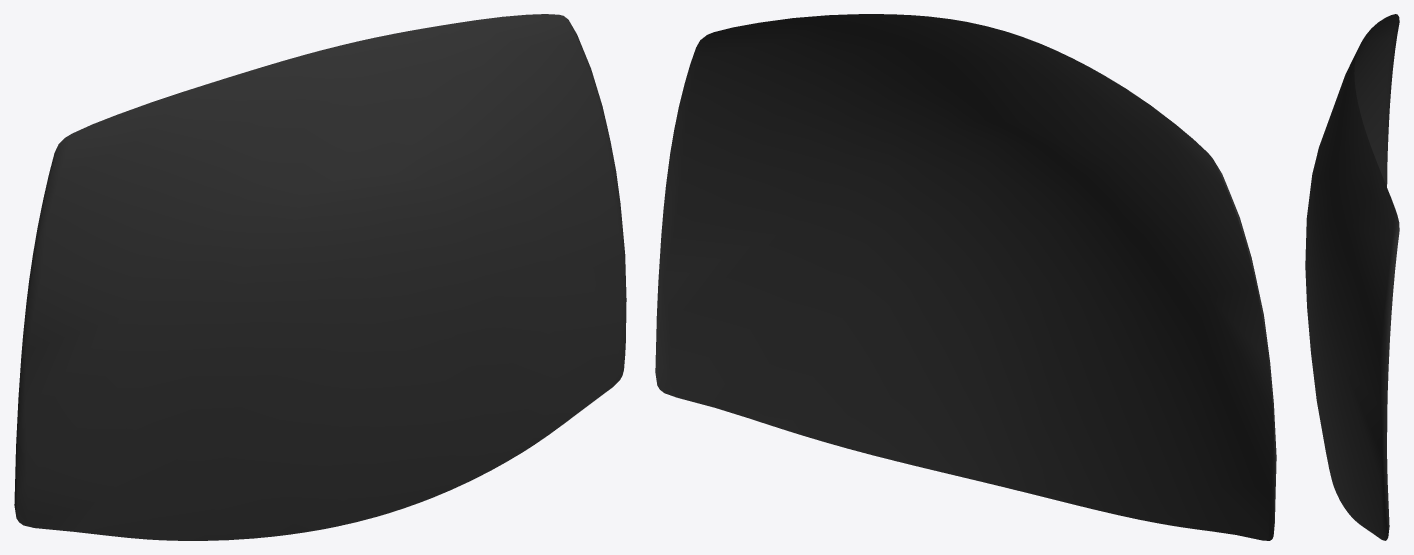
File: Glass.glb
3 renders of one model, left to right at view 1: azimuth 30°, elevation 25°; view 2: azimuth 150°, elevation 25°; view 3: azimuth 270°, elevation 25°, orthographic. The views are drawn at different scales.
Parts seen in each view (by area): view 1: Group31135; view 2: Group31135; view 3: Group31135.
Boxes of the visible parts, left/top/right/bottom form: Group31135: left=14, top=14, right=626, bottom=540; Group31135: left=655, top=14, right=1276, bottom=540; Group31135: left=1305, top=14, right=1399, bottom=540.
Bounding box in the file's own units: 0.00297 × 0.00216 × 0.000481.
1 material, 1 textured.
